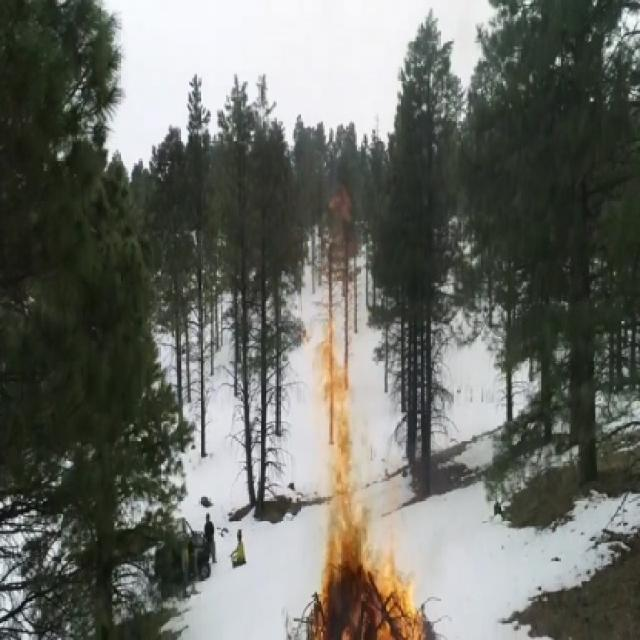Fire: (322, 338, 358, 636), (362, 546, 422, 640)
